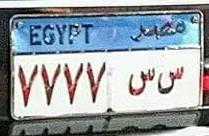7: (85, 61, 107, 106), (17, 64, 39, 109), (40, 63, 62, 106), (63, 61, 84, 105)
seen: (127, 67, 156, 100), (157, 67, 186, 96)
